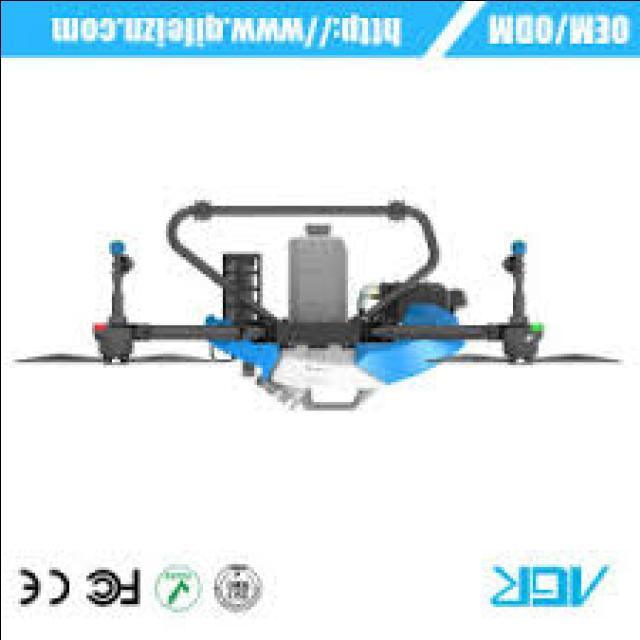drone: (26, 176, 606, 432)
